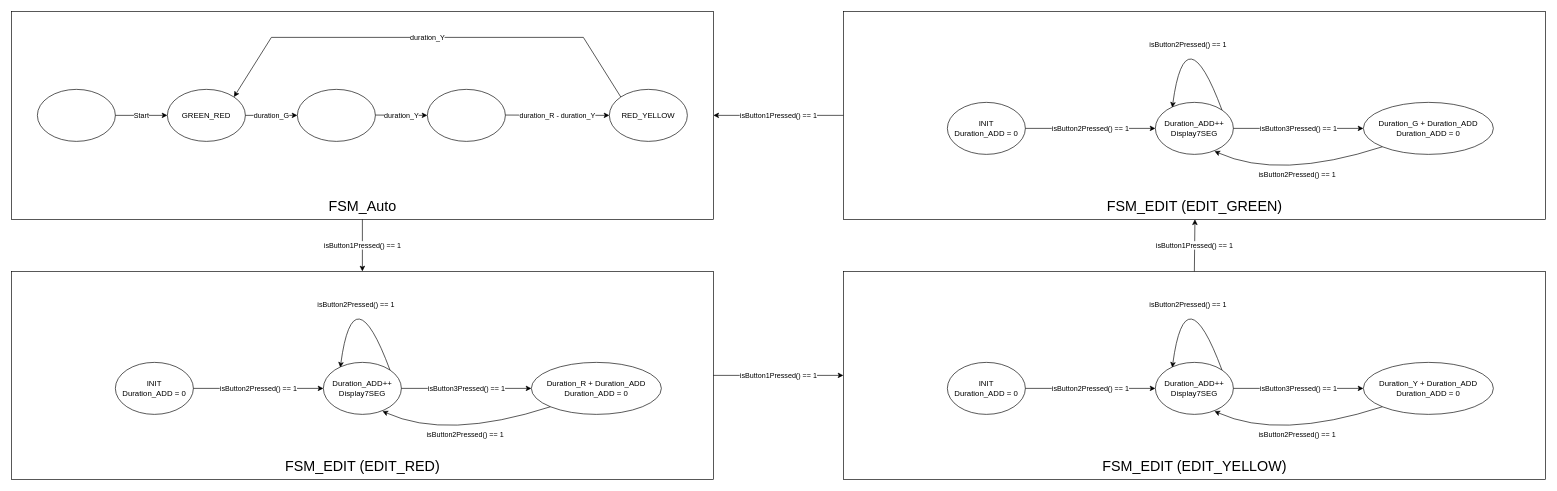
The diagram is 1557 pixels wide and 491 high, and some of its shapes have lost their labels. Here are the shapes that lost their labels. From the top down, the centre of each, then its label:
At pixel 76 115: "INIT".
At pixel 336 115: "YELLOW_RED".
At pixel 466 115: "RED_GREEN".
